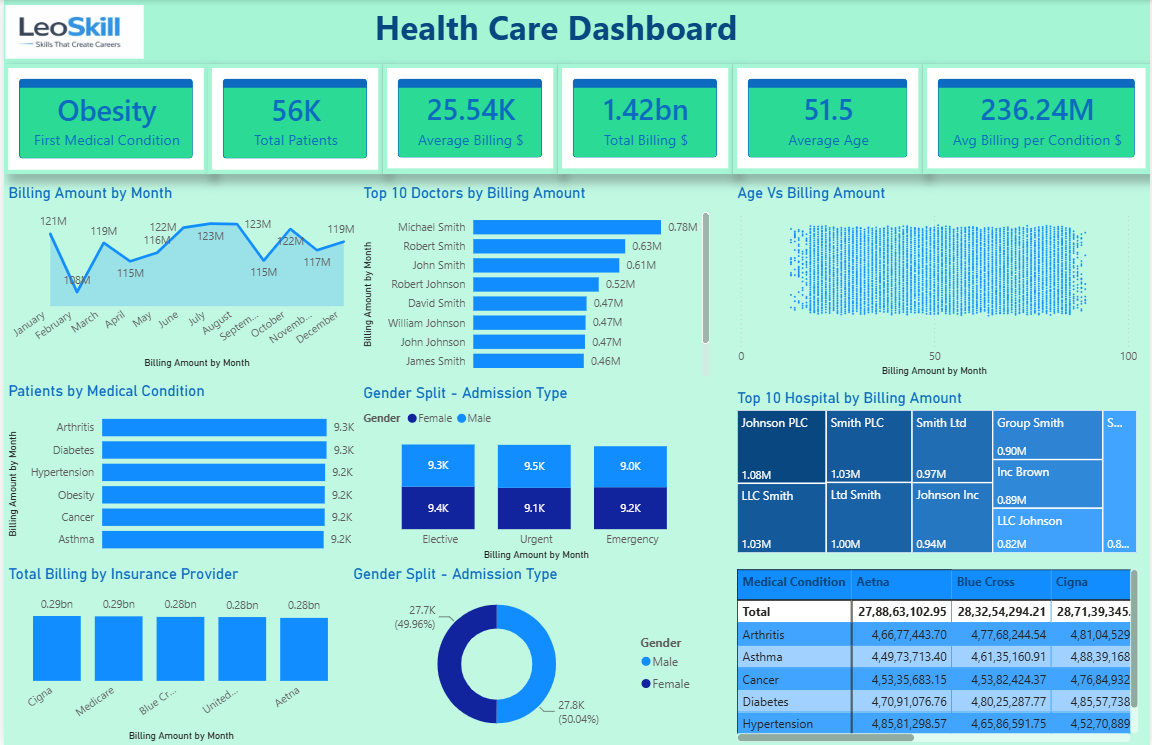

The dashboard page shown, as its layout file describes it:
{"tool":"powerbi","page":{"name":"Health Card","canvas":[1280,833],"ordinal":0},"visuals":[{"type":"textbox","box":[0,0,1280.3,71.4],"z":0},{"type":"image","box":[0,5.5,157.8,60.4],"z":1000},{"type":"cardVisual","fields":{"Data":["Min(healthcare_dataset.Medical Condition)"]},"box":[0,71.2,228,123.1],"z":2000},{"type":"cardVisual","fields":{"Data":["healthcare_dataset.Total Patients"]},"box":[228,71.2,195.4,123.1],"z":3000},{"type":"lineChart","title":"Billing Amount by Month","fields":{"Category":["healthcare_dataset.Date of Admission.Variation.Date Hierarchy.Month"],"Y":["Sum(healthcare_dataset.Billing Amount)"]},"box":[0,205.2,396.4,210.8],"z":4000},{"type":"clusteredBarChart","title":"Patients by Medical Condition","fields":{"Category":["healthcare_dataset.Medical Condition"],"Y":["CountNonNull(healthcare_dataset.Name)"]},"box":[0,425.7,396.4,202.4],"z":5000},{"type":"clusteredColumnChart","title":"Total Billing by Insurance Provider","fields":{"Category":["healthcare_dataset.Insurance Provider"],"Y":["Sum(healthcare_dataset.Billing Amount)"]},"box":[0,630.9,396.4,202.4],"z":6000},{"type":"clusteredBarChart","title":"Top 10 Doctors by Billing Amount","fields":{"Category":["healthcare_dataset.Doctor"],"Y":["Sum(healthcare_dataset.Billing Amount)"]},"box":[396.4,205.2,396.4,220.5],"z":7000},{"type":"columnChart","title":"Gender Split - Admission Type","fields":{"Category":["healthcare_dataset.Admission Type"],"Y":["CountNonNull(healthcare_dataset.Name)"],"Series":["healthcare_dataset.Gender"]},"box":[396.4,428.5,396.4,202.4],"z":8000},{"type":"donutChart","title":"Gender Split - Admission Type","fields":{"Y":["CountNonNull(healthcare_dataset.Name)"],"Category":["healthcare_dataset.Gender"]},"box":[385.2,630.9,396.4,202.4],"z":9000},{"type":"scatterChart","title":"Age Vs Billing Amount","fields":{"X":["healthcare_dataset.Age"],"Y":["healthcare_dataset.Billing Amount"]},"box":[813.7,205.2,456.4,220.5],"z":10000},{"type":"treemap","title":"Top 10 Hospital by Billing Amount","fields":{"Values":["Sum(healthcare_dataset.Billing Amount)"],"Group":["healthcare_dataset.Hospital"]},"box":[813.7,434.1,456.4,188.4],"z":11000},{"type":"pivotTable","title":"Patients by Medical Condition","fields":{"Rows":["healthcare_dataset.Medical Condition"],"Columns":["healthcare_dataset.Insurance Provider"],"Values":["Sum(healthcare_dataset.Billing Amount)"]},"box":[813.7,630.9,457.8,202.4],"z":12000},{"type":"cardVisual","fields":{"Data":["healthcare_dataset.Average Billing $"]},"box":[422.9,71.2,195.4,122.8],"z":13000},{"type":"cardVisual","fields":{"Data":["healthcare_dataset.Total Billing $"]},"box":[618.3,71.2,195.4,122.8],"z":14000},{"type":"cardVisual","fields":{"Data":["healthcare_dataset.Average Age"]},"box":[813.7,71.2,212.2,122.8],"z":15000},{"type":"cardVisual","fields":{"Data":["healthcare_dataset.Avg Billing per Condition $"]},"box":[1025.9,71.2,254,122.8],"z":16000}]}

Visuals, with their boxes in screenshot pixels (x1, y1, x2, y2), scaled from the page's 1280x833 canvas onto the 1152x745 screenshot:
textbox: box(0, 0, 1151, 64)
image: box(0, 5, 142, 59)
cardVisual - Min(healthcare_dataset.Medical Condition): box(0, 64, 205, 174)
cardVisual - healthcare_dataset.Total Patients: box(205, 64, 381, 174)
"Billing Amount by Month" lineChart: box(0, 184, 357, 372)
"Patients by Medical Condition" clusteredBarChart: box(0, 381, 357, 562)
"Total Billing by Insurance Provider" clusteredColumnChart: box(0, 564, 357, 744)
"Top 10 Doctors by Billing Amount" clusteredBarChart: box(357, 184, 714, 381)
"Gender Split - Admission Type" columnChart: box(357, 383, 714, 564)
"Gender Split - Admission Type" donutChart: box(347, 564, 703, 744)
"Age Vs Billing Amount" scatterChart: box(732, 184, 1143, 381)
"Top 10 Hospital by Billing Amount" treemap: box(732, 388, 1143, 557)
"Patients by Medical Condition" pivotTable: box(732, 564, 1144, 744)
cardVisual - healthcare_dataset.Average Billing $: box(381, 64, 556, 174)
cardVisual - healthcare_dataset.Total Billing $: box(556, 64, 732, 174)
cardVisual - healthcare_dataset.Average Age: box(732, 64, 923, 174)
cardVisual - healthcare_dataset.Avg Billing per Condition $: box(923, 64, 1151, 174)
